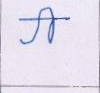i_matra: (41, 6, 56, 43)
